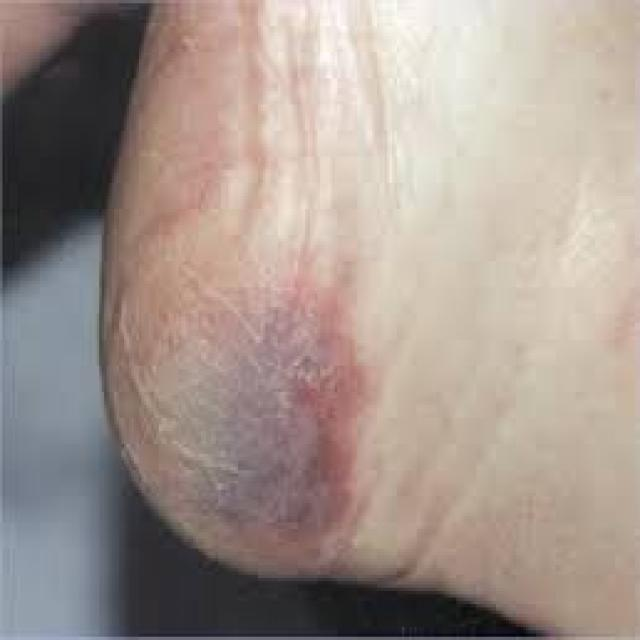DTI: (189, 267, 373, 551)
